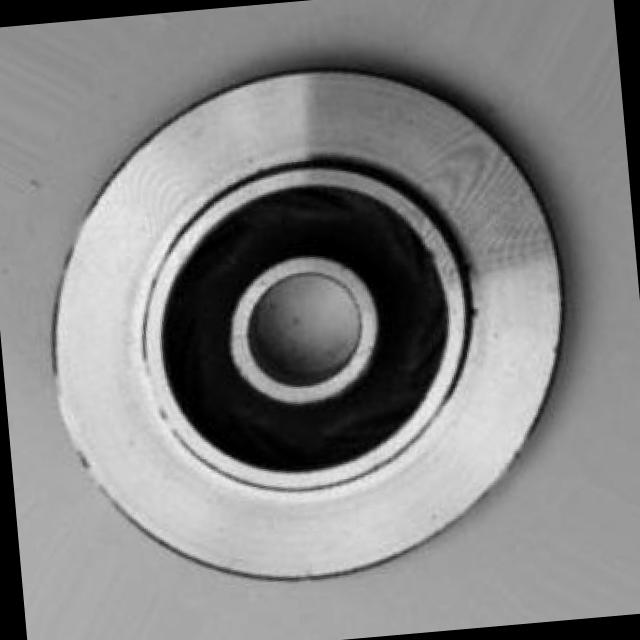Defect: (462, 301, 492, 327)
